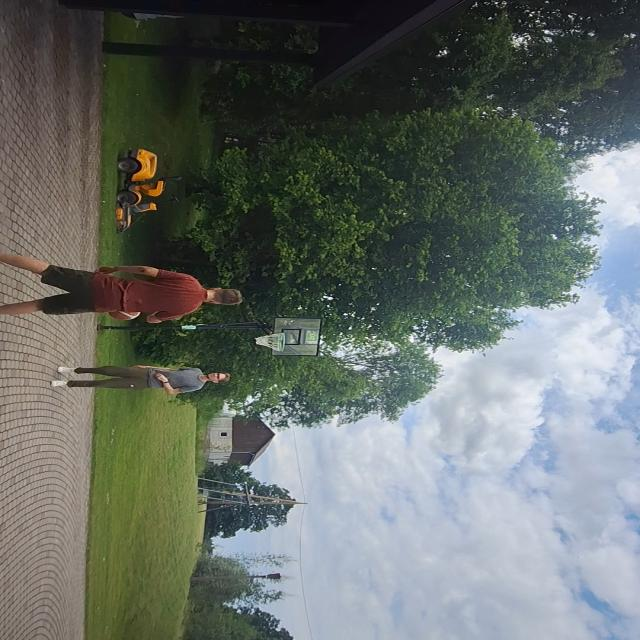ball: (106, 311, 140, 320)
hoop: (253, 332, 289, 353)
player: (3, 250, 246, 328), (47, 358, 238, 398)
